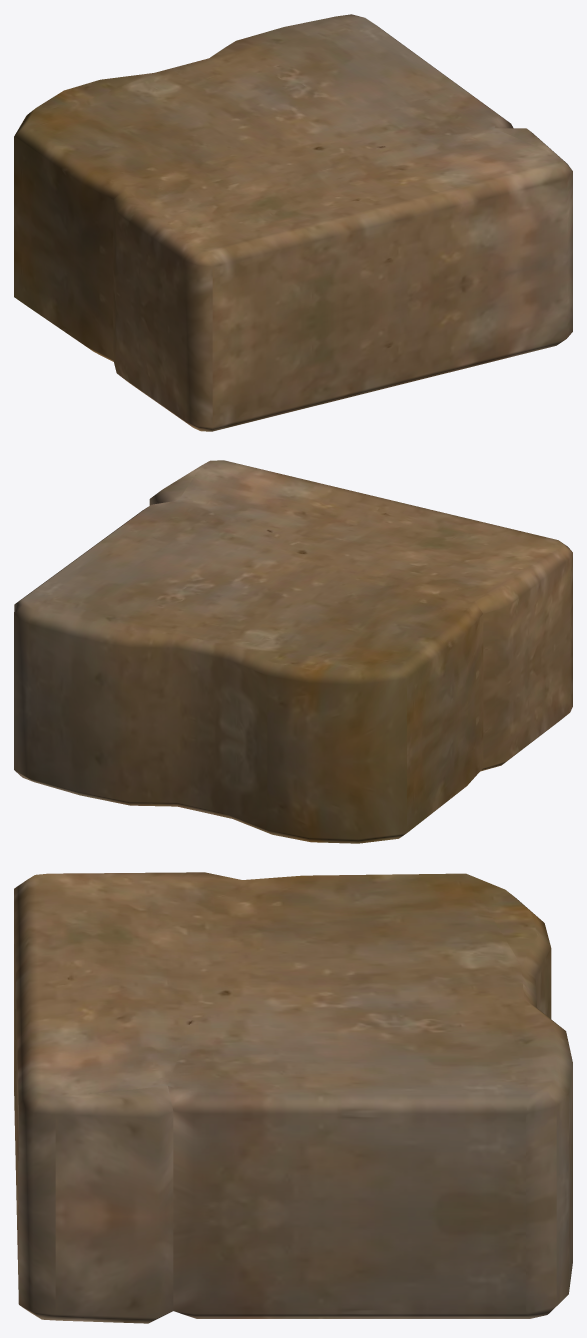
3 views of the same model, one above another, from view 1: azimuth 30°, elevation 25°; view 2: azimuth 150°, elevation 25°; view 3: azimuth 270°, elevation 25° (orthographic). The views are drawn at different scales.
Visible parts, largest first — view 1: SM_DK_Path_Brick_01_V3_LOD0; view 2: SM_DK_Path_Brick_01_V3_LOD0; view 3: SM_DK_Path_Brick_01_V3_LOD0.
Part boxes in pixels (<box>): SM_DK_Path_Brick_01_V3_LOD0: <box>14,14,572,431</box>; SM_DK_Path_Brick_01_V3_LOD0: <box>14,460,572,843</box>; SM_DK_Path_Brick_01_V3_LOD0: <box>14,872,572,1323</box>.
Size of the model in its own units: 1.27 by 0.5511 by 1.25.
Materials: 1 (1 with a texture image).
